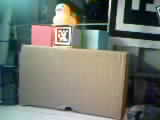duck: (42, 6, 75, 31)
